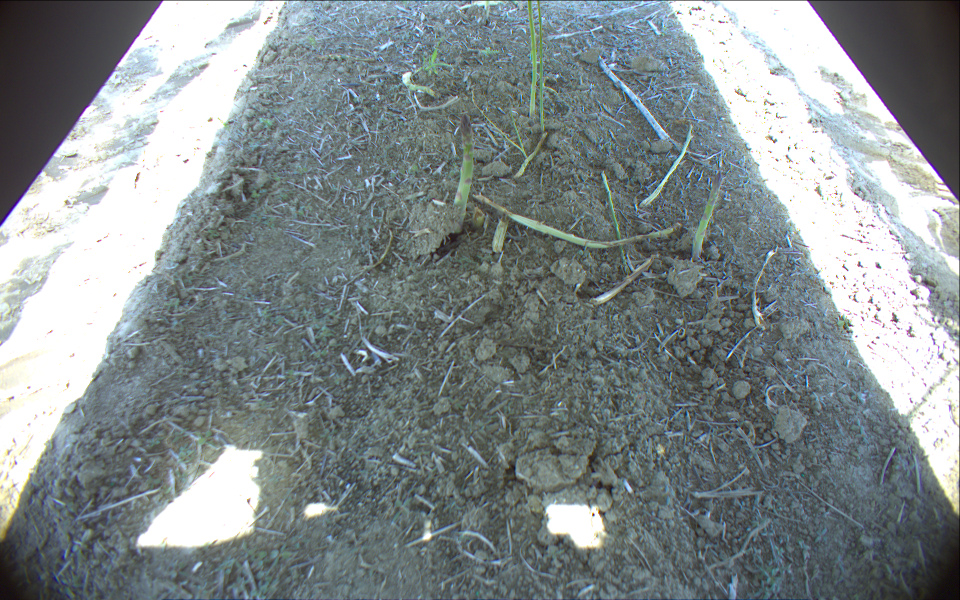aspa: (475, 195, 683, 248), (642, 120, 692, 208), (469, 82, 518, 154), (601, 174, 633, 274), (692, 171, 723, 263), (452, 113, 476, 218), (516, 129, 549, 180), (536, 1, 548, 131), (526, 1, 538, 120), (401, 71, 444, 100), (458, 1, 501, 11), (483, 1, 492, 14)
